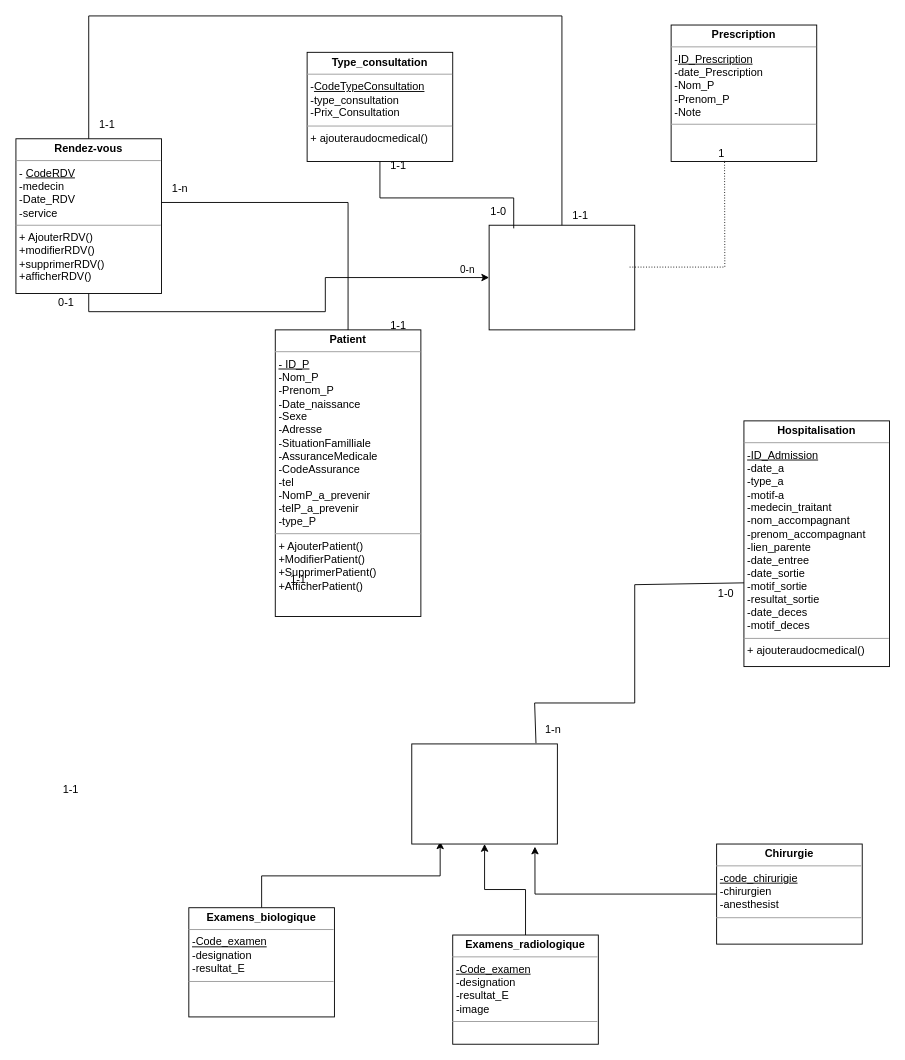
Some shapes in this 905 by 1060 pixel diagram are drawn without their labels. Each missing label, with the centre of its shape:
"Consultation - ID_C -Date_consultation -synthese + ajouteraudocmedical()" goes at (x=561, y=277).
"Traitement -code_traitment -date_T -prix_Traitement + ajouteraudocmedical()" goes at (x=484, y=793).
